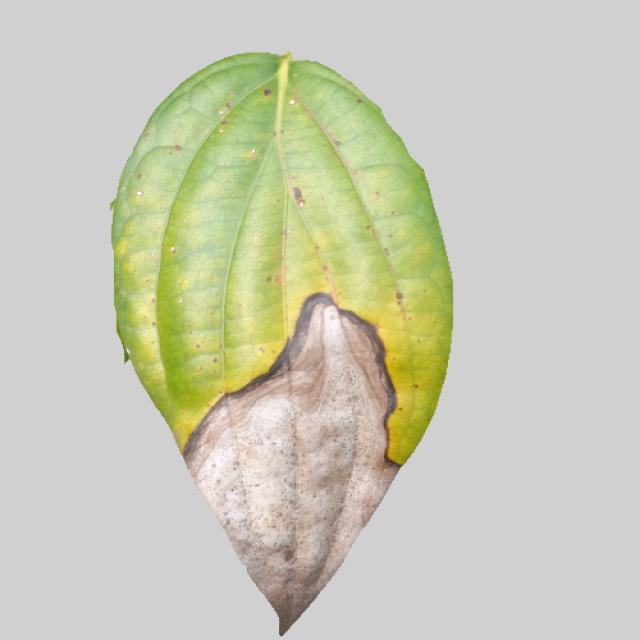leaf-blight: (106, 43, 454, 640)
